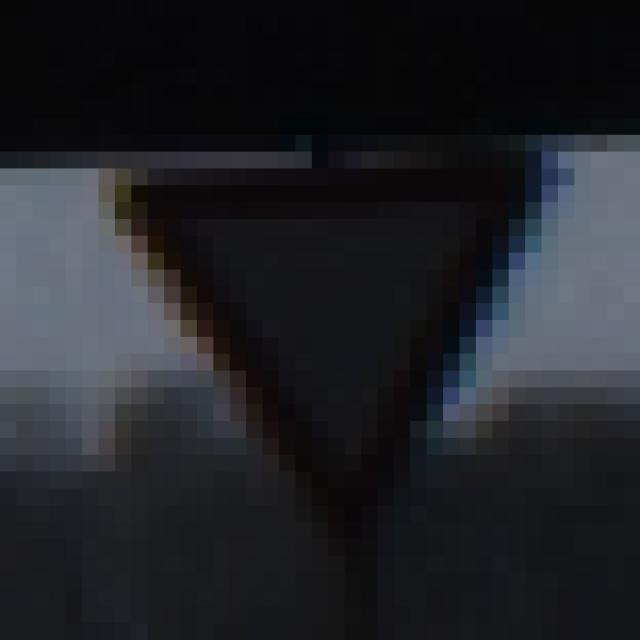Give Way: (83, 85, 559, 557)
